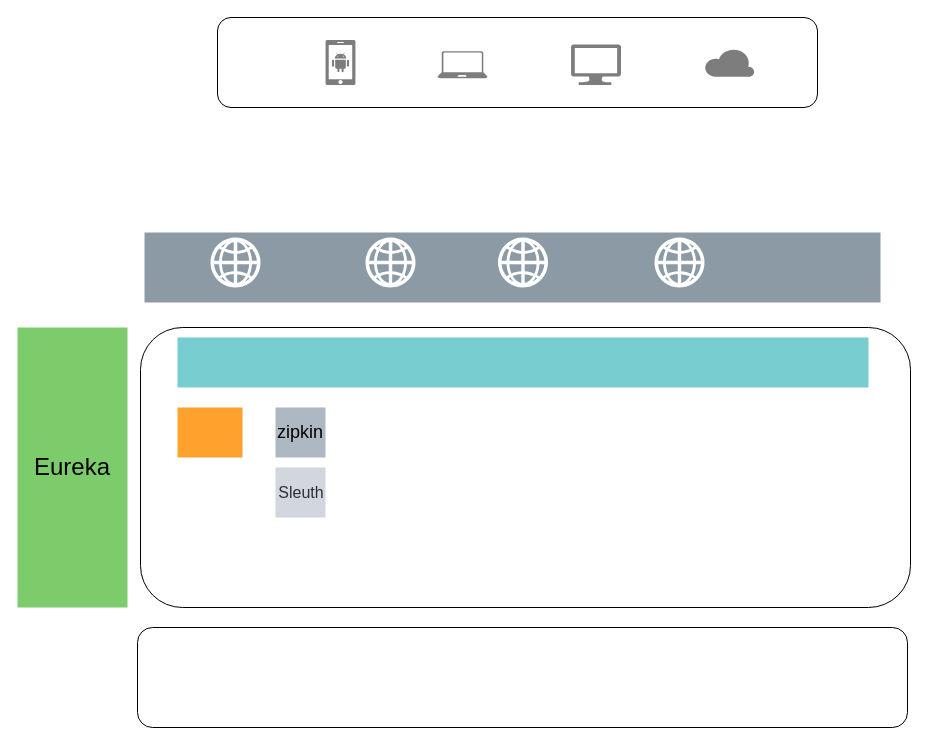
Image size: 928x745. Some labels were removed from this diagram. The shapes that lost their labels are listed below. From the top down, each one's centre as x and y in pixels, then its label:
(x=522, y=362): Gateway
(x=209, y=432): Config
